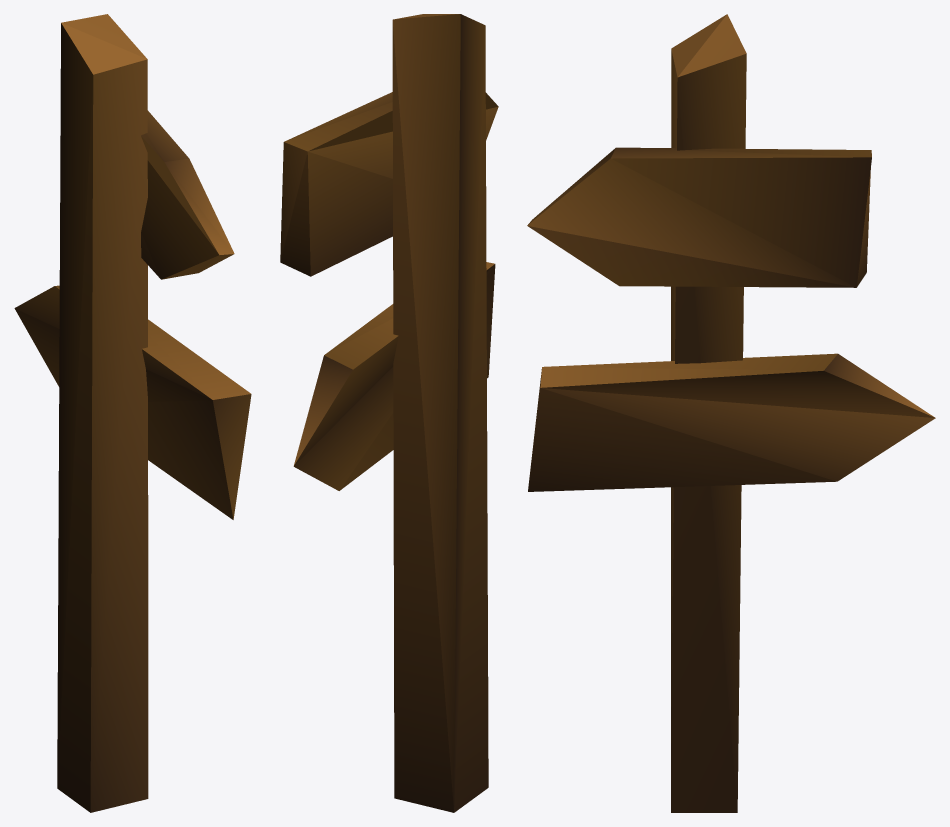
The model's file is Mixed_Sign_02.fbx.
The picture shows the model from 3 angles, left to right: view 1: azimuth 30°, elevation 25°; view 2: azimuth 150°, elevation 25°; view 3: azimuth 270°, elevation 25°; orthographic projection. The views are drawn at different scales.
Visible parts, largest first — view 1: Sign_02.001; view 2: Sign_02.001; view 3: Sign_02.001.
Boxes of the visible parts, x1=… form: Sign_02.001: x1=14, y1=14, x2=251, y2=812; Sign_02.001: x1=280, y1=14, x2=498, y2=812; Sign_02.001: x1=527, y1=14, x2=935, y2=812.
Size of the model in its own units: 51.6 by 345 by 166.
